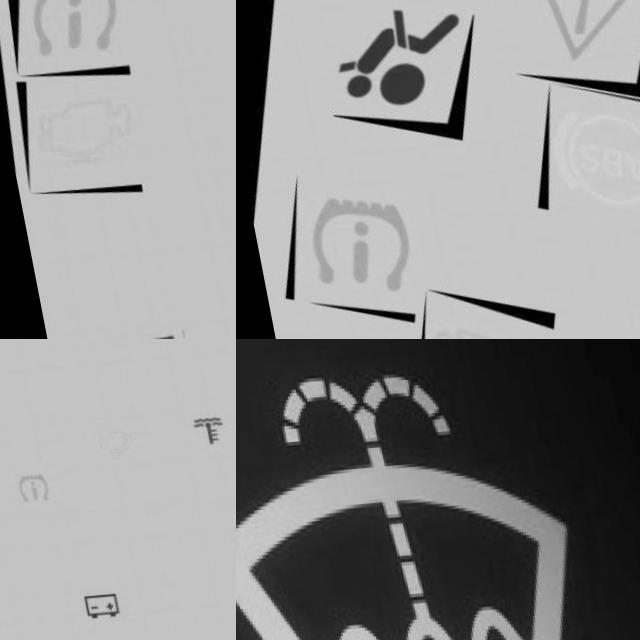Washer Fluid: (236, 366, 603, 640)
